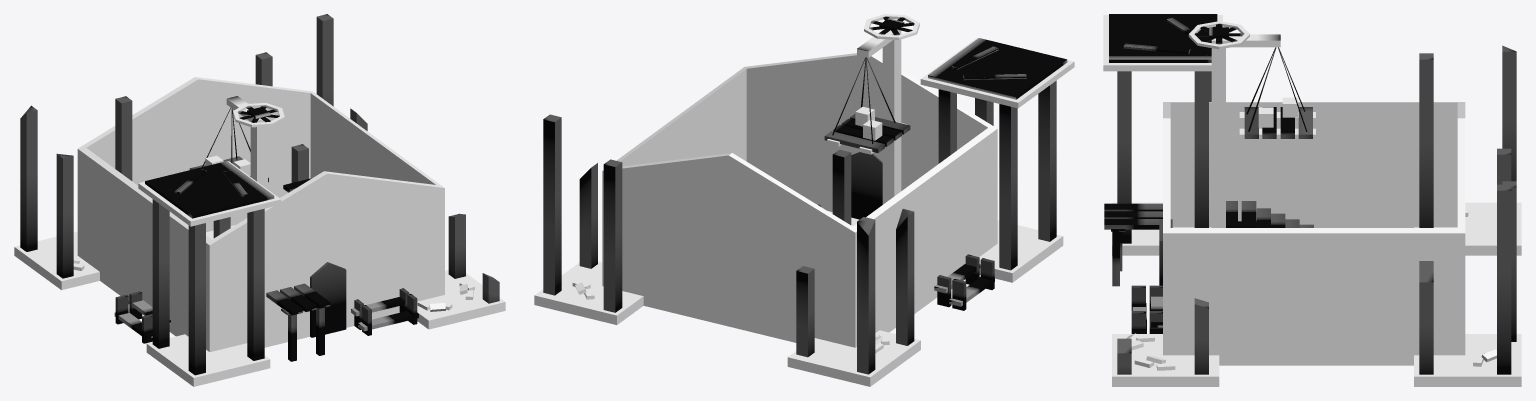
File: BarracksPhase01.fbx
3 views of the same model, side by side, from view 1: azimuth 30°, elevation 25°; view 2: azimuth 150°, elevation 25°; view 3: azimuth 270°, elevation 25° (orthographic). The views are drawn at different scales.
Parts seen in each view (by area): view 1: BarracksPhase01; view 2: BarracksPhase01; view 3: BarracksPhase01.
Part boxes in pixels (bbox=[...]): BarracksPhase01: bbox=[14, 14, 505, 386]; BarracksPhase01: bbox=[534, 14, 1074, 386]; BarracksPhase01: bbox=[1103, 14, 1521, 386].
Size of the model in its own units: 418 by 267 by 415.
